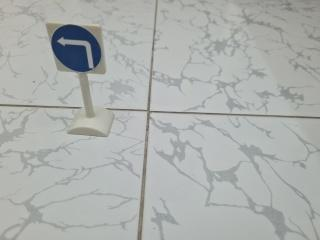left: (41, 20, 127, 85)
